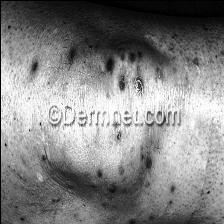Potentially Malignant Skin Tumors: (64, 42, 80, 70), (29, 57, 43, 73), (104, 54, 112, 73)
